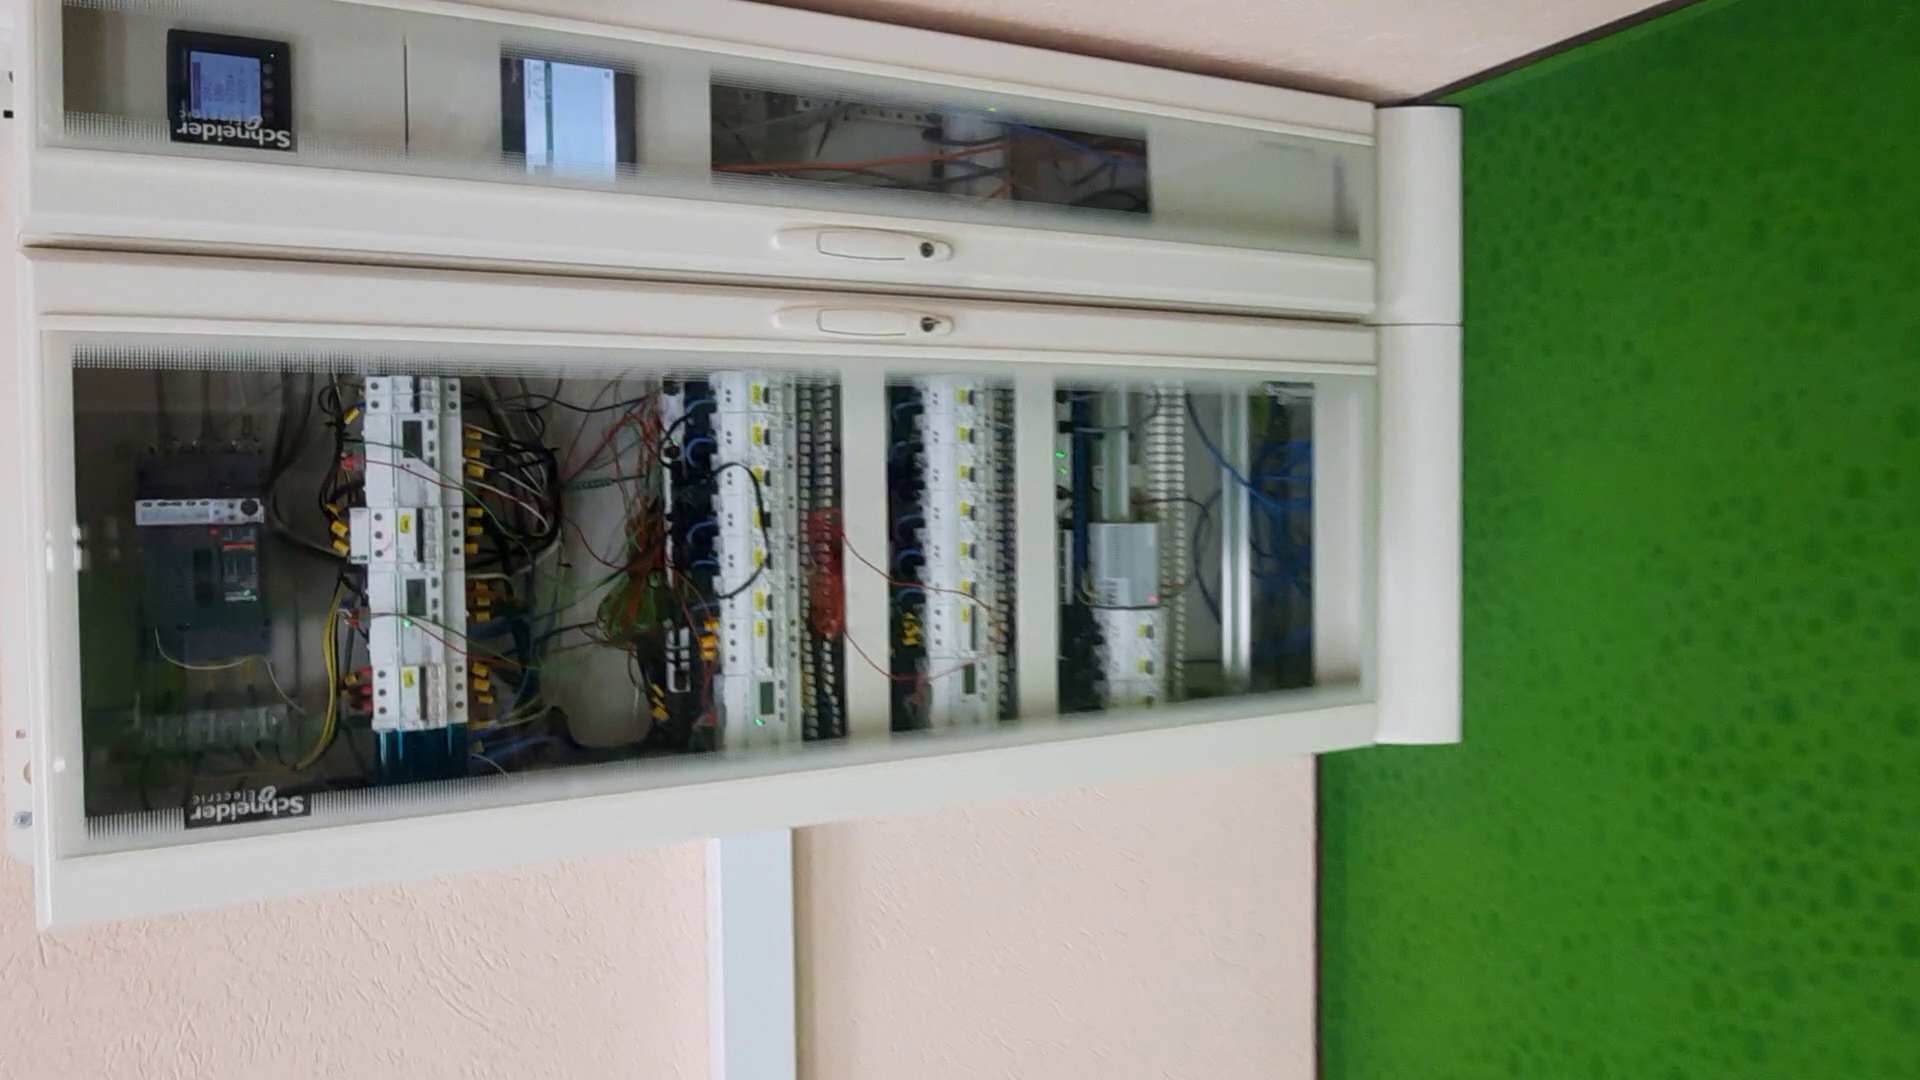stand1: (1, 1, 1476, 942)
